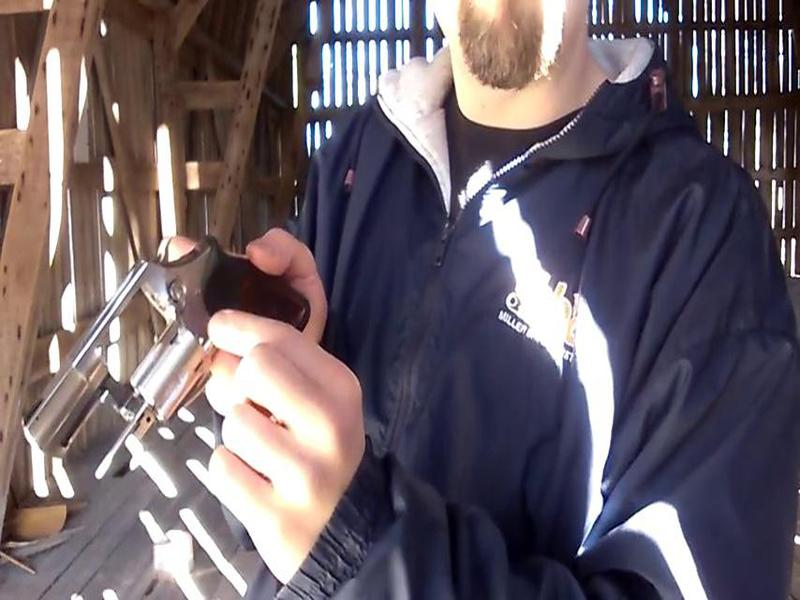Revolver: (18, 239, 299, 476)
